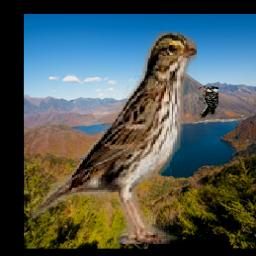Sparrow: (29, 31, 197, 244)
Woodpecker: (199, 85, 218, 118)
